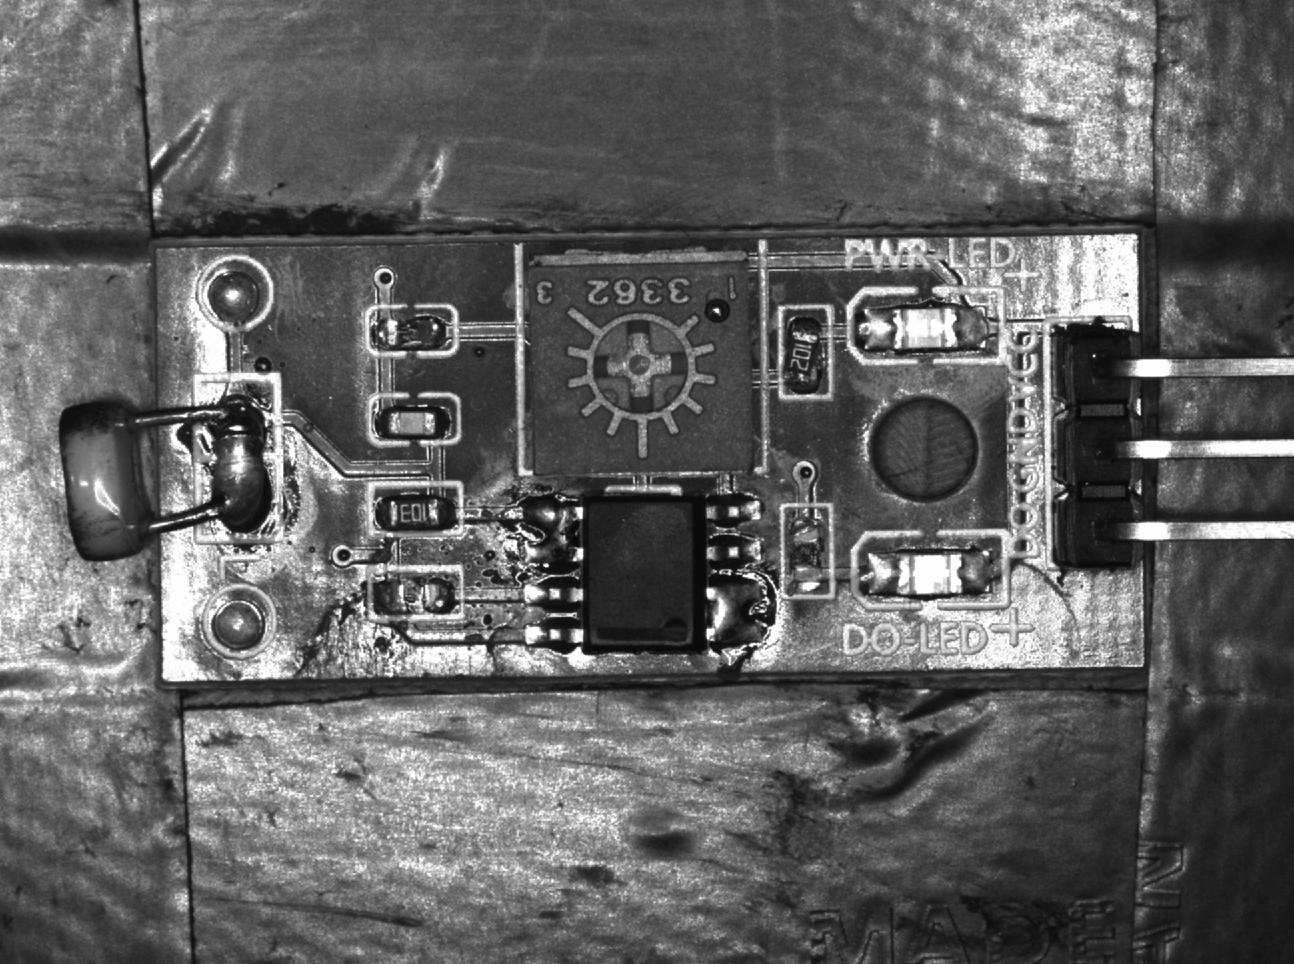bridge: (192, 379, 280, 543), (515, 489, 582, 575), (709, 573, 778, 650)
lifted: (777, 306, 831, 399)
miss: (783, 501, 830, 601), (363, 303, 456, 354), (365, 570, 459, 620)
ok: (365, 393, 464, 448), (373, 481, 461, 535)
